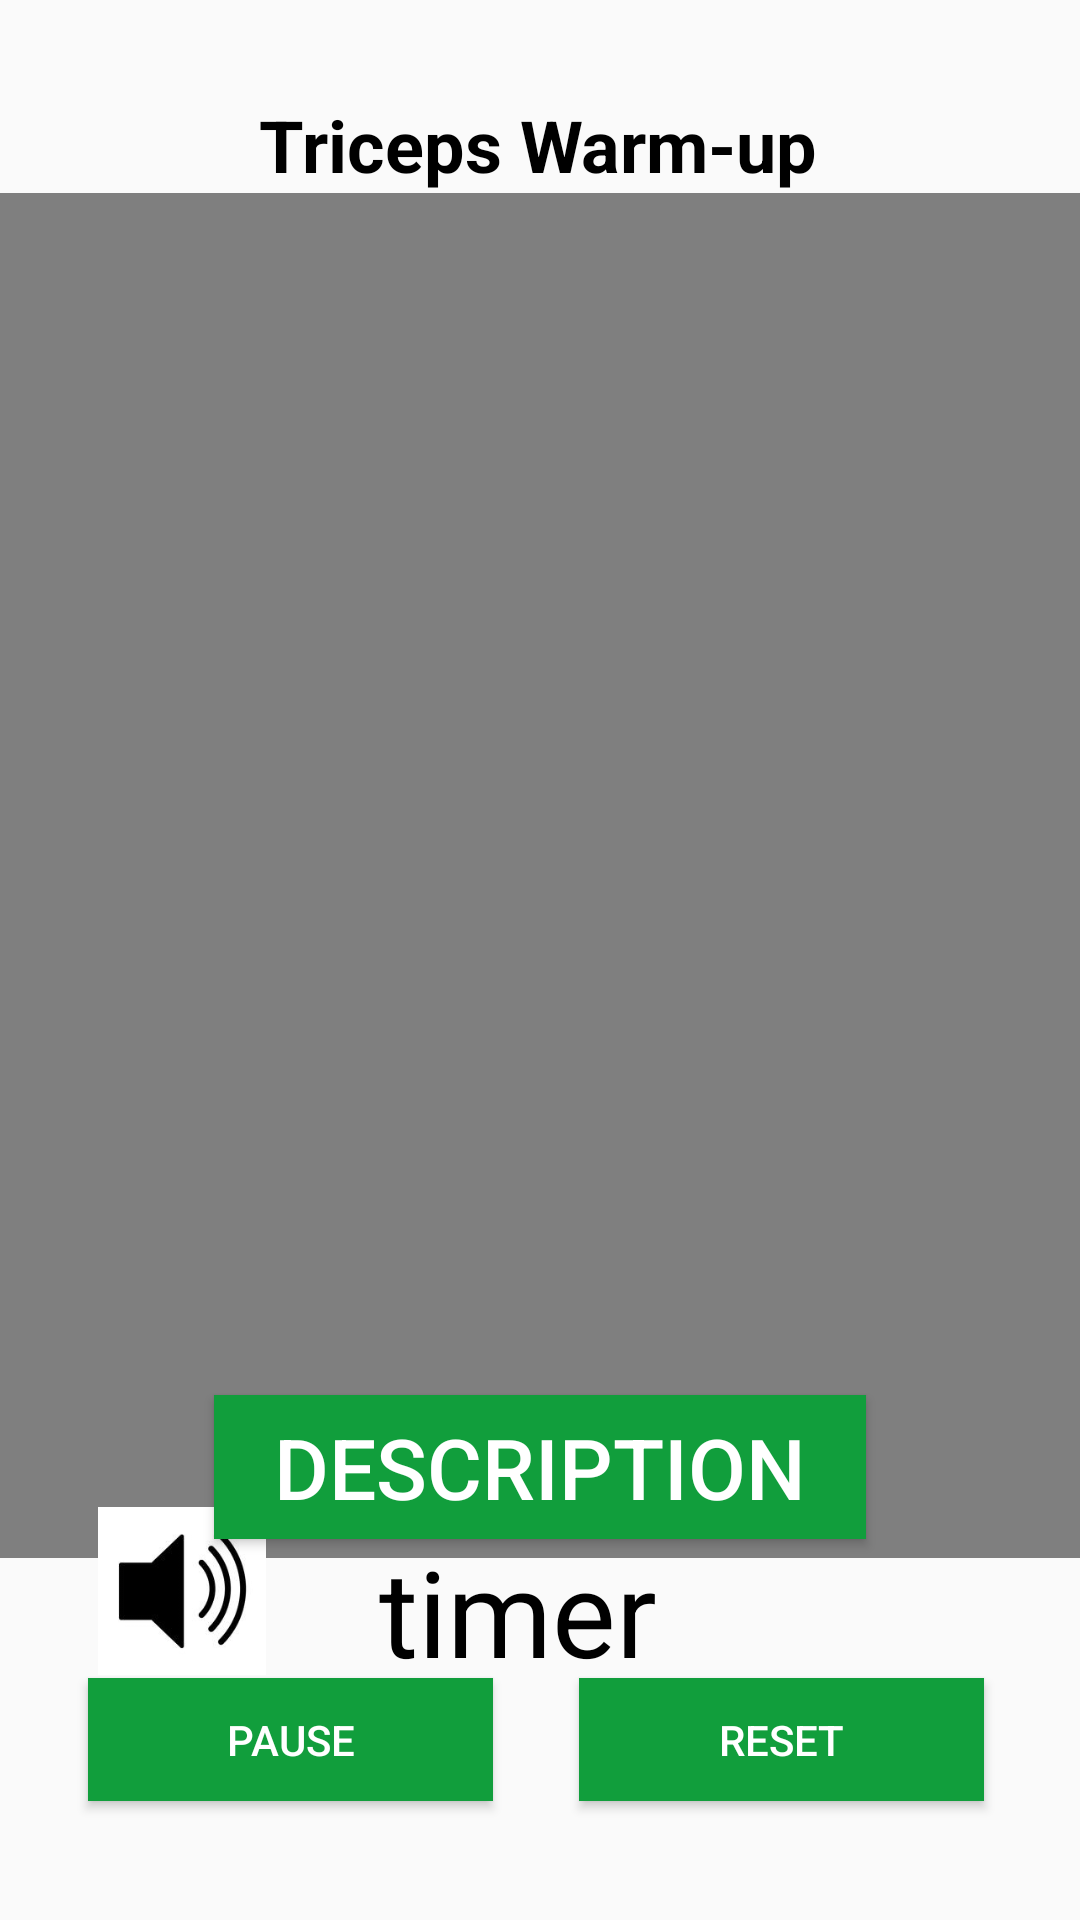

Icon click points for this 1080 x 1920 phone screenshot, format (x=x, y=y):
speakericon: (x=182, y=1591)
